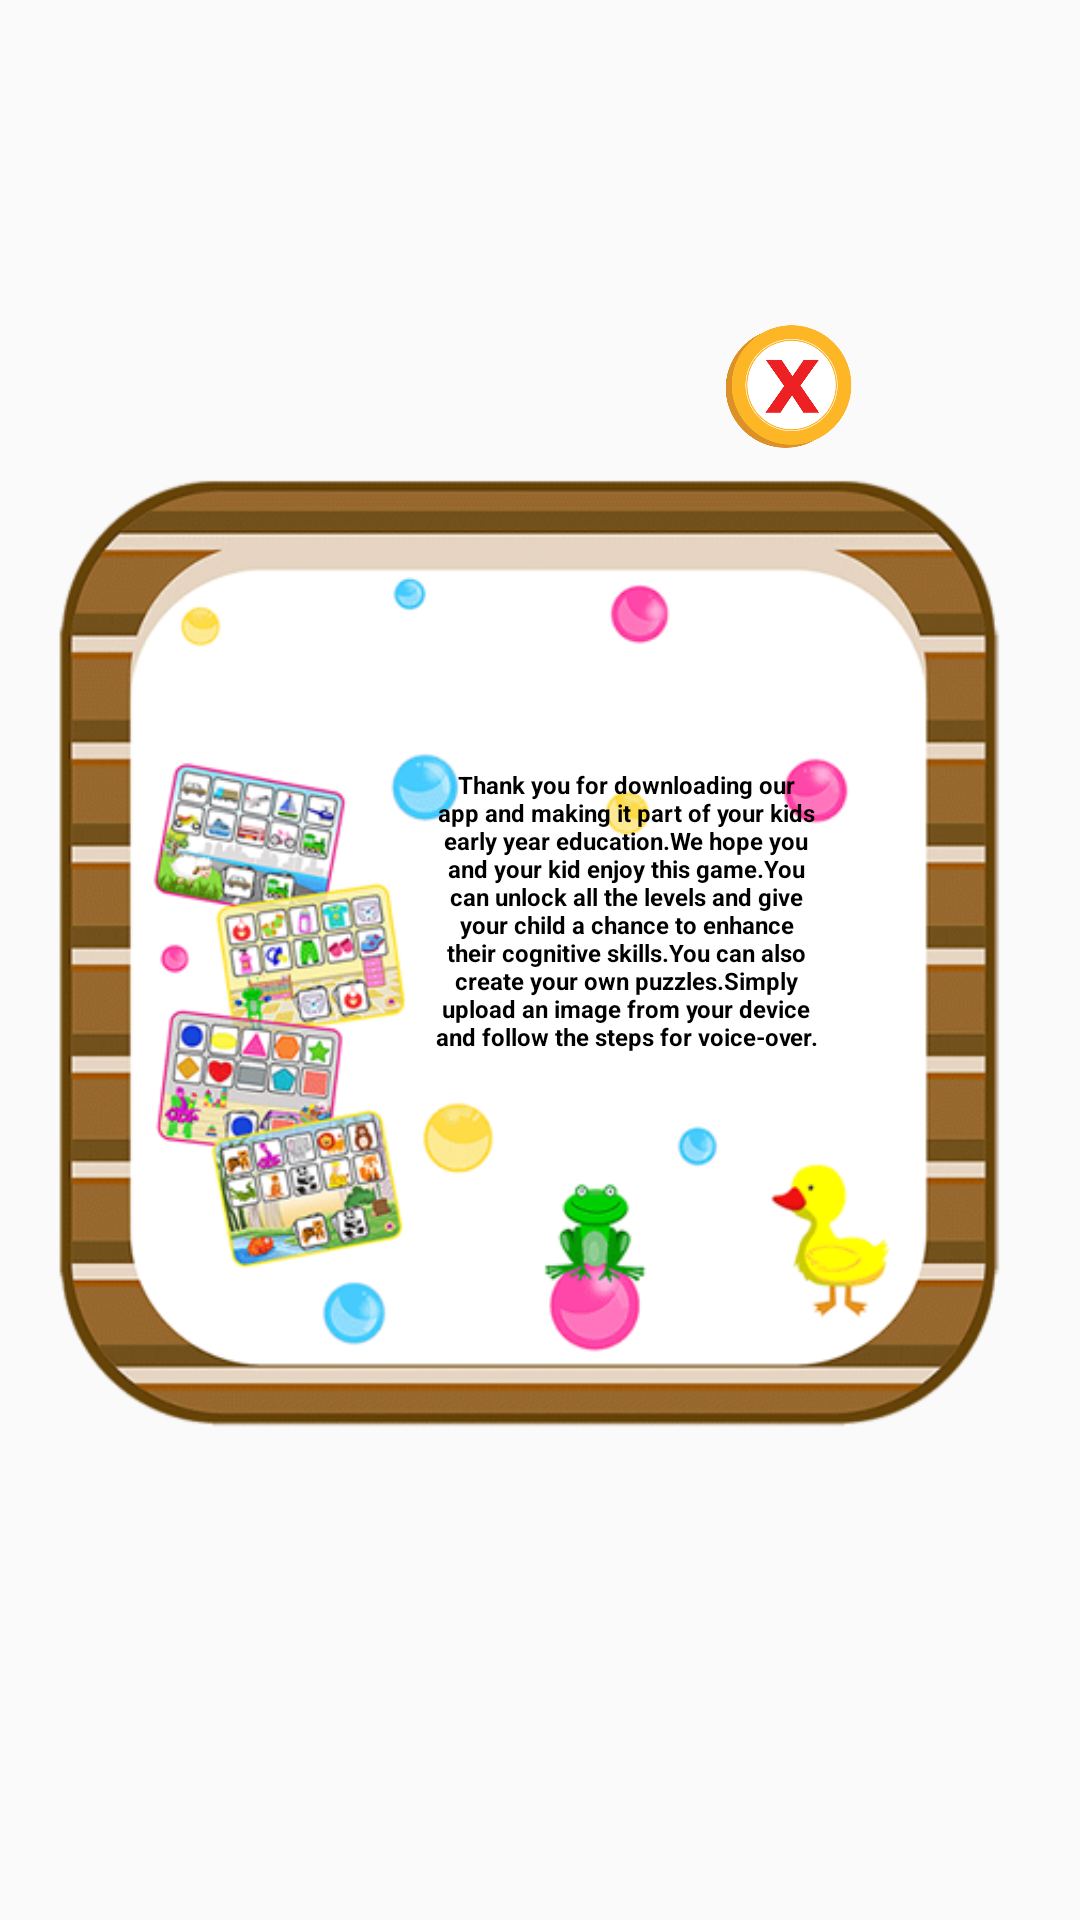

Icon click points for this 1080x1920 phone screenshot, format (x=x, y=y):
canclebtn: (x=789, y=386)
